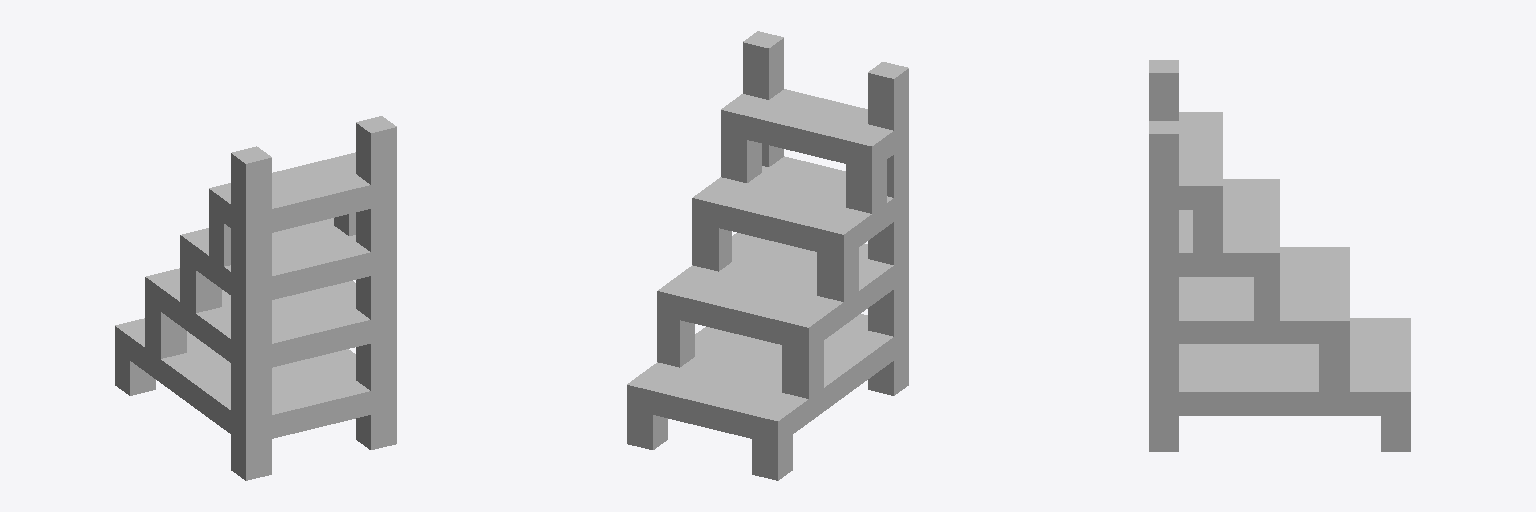
Rendered from escalier.obj.
3 renders of one model, left to right at view 1: azimuth 30°, elevation 25°; view 2: azimuth 150°, elevation 25°; view 3: azimuth 270°, elevation 25°, orthographic.
Parts seen in each view (by area): view 1: object 1; view 2: object 1; view 3: object 1.
Boxes of the visible parts, x1,y1,x2,y2 form: object 1: [115, 116, 396, 480]; object 1: [627, 31, 908, 480]; object 1: [1149, 60, 1410, 451].
Size of the model in its own units: 4 by 8 by 6.